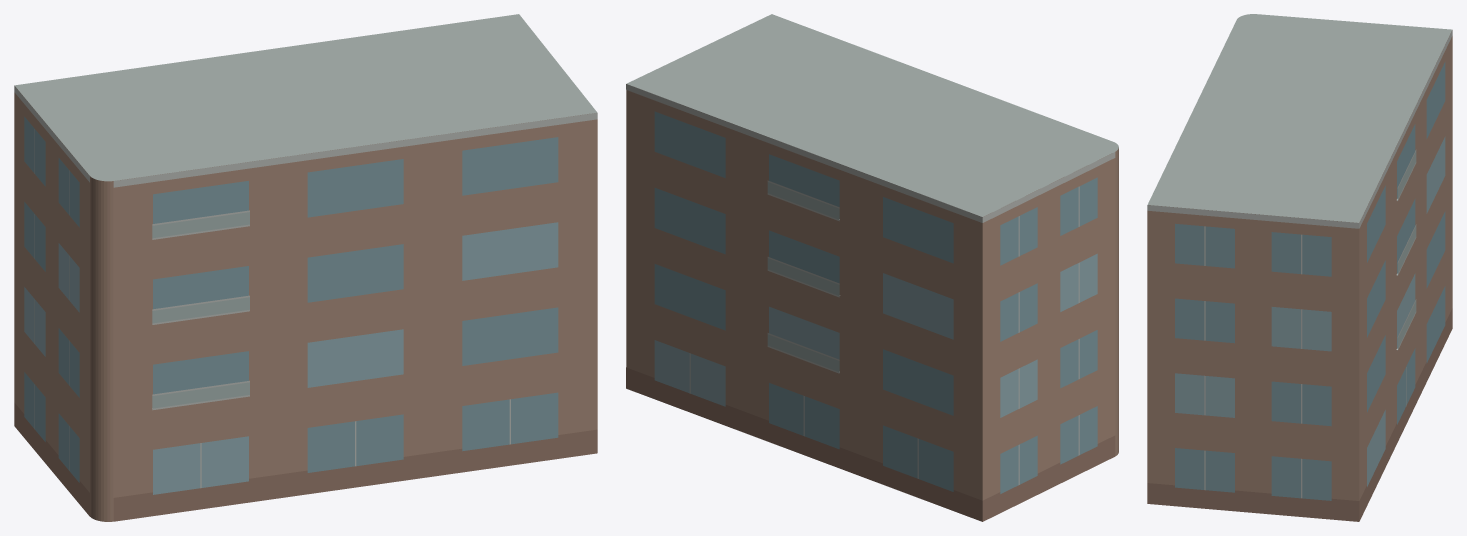
The model's file is survey-upis-32872360.glb.
3 views of the same model, side by side, from view 1: azimuth 30°, elevation 25°; view 2: azimuth 150°, elevation 25°; view 3: azimuth 270°, elevation 25° (orthographic). The views are drawn at different scales.
Visible parts, largest first — view 1: survey-upis-32872360.tmp; view 2: survey-upis-32872360.tmp; view 3: survey-upis-32872360.tmp.
Boxes of the visible parts, x1=… form: survey-upis-32872360.tmp: x1=14, y1=14, x2=597, y2=521; survey-upis-32872360.tmp: x1=626, y1=14, x2=1118, y2=521; survey-upis-32872360.tmp: x1=1147, y1=14, x2=1452, y2=521.
Bounding box in the file's own units: 18.6 × 12.4 × 11.48.
